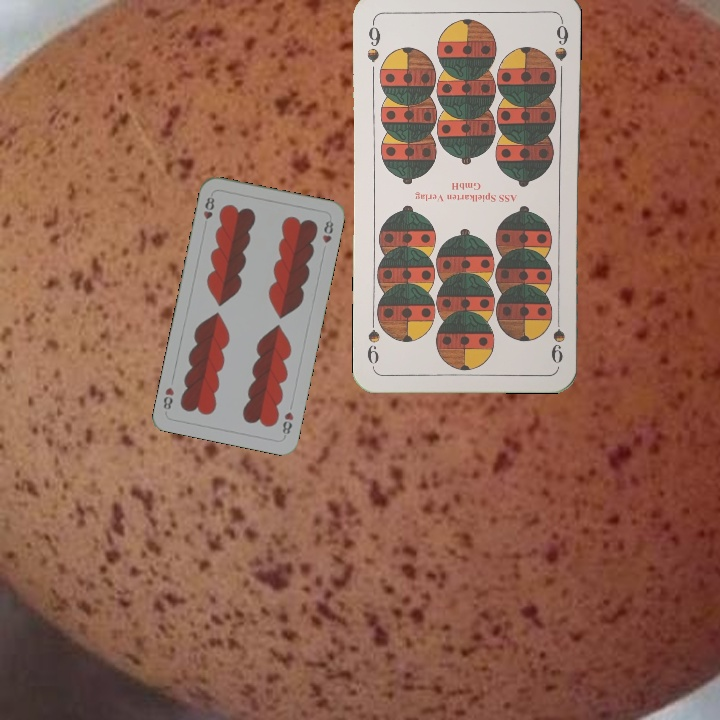H8: (199, 193, 217, 230), (278, 408, 296, 440)
S9: (547, 308, 567, 367), (363, 17, 384, 64)
